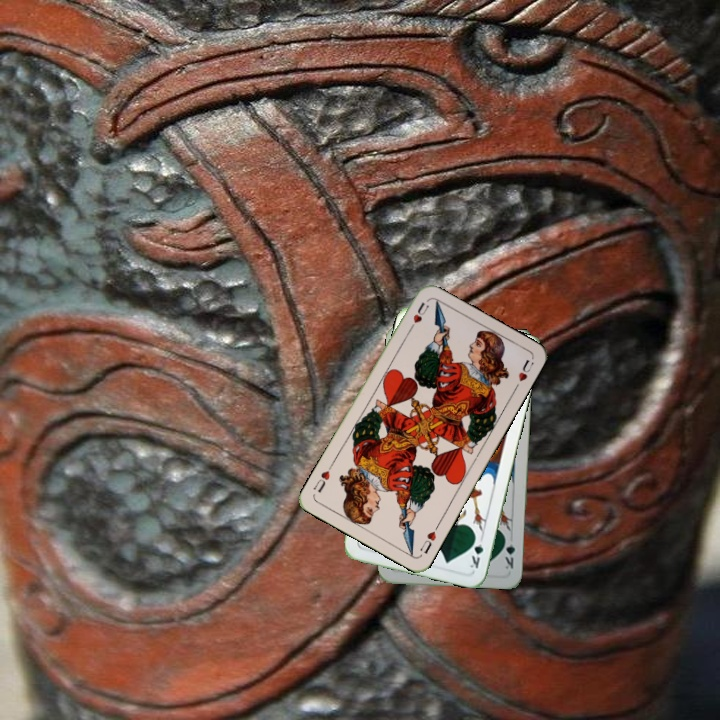GK: (466, 531, 486, 571), (501, 532, 518, 572)
HU: (405, 298, 432, 334), (416, 520, 442, 556)
